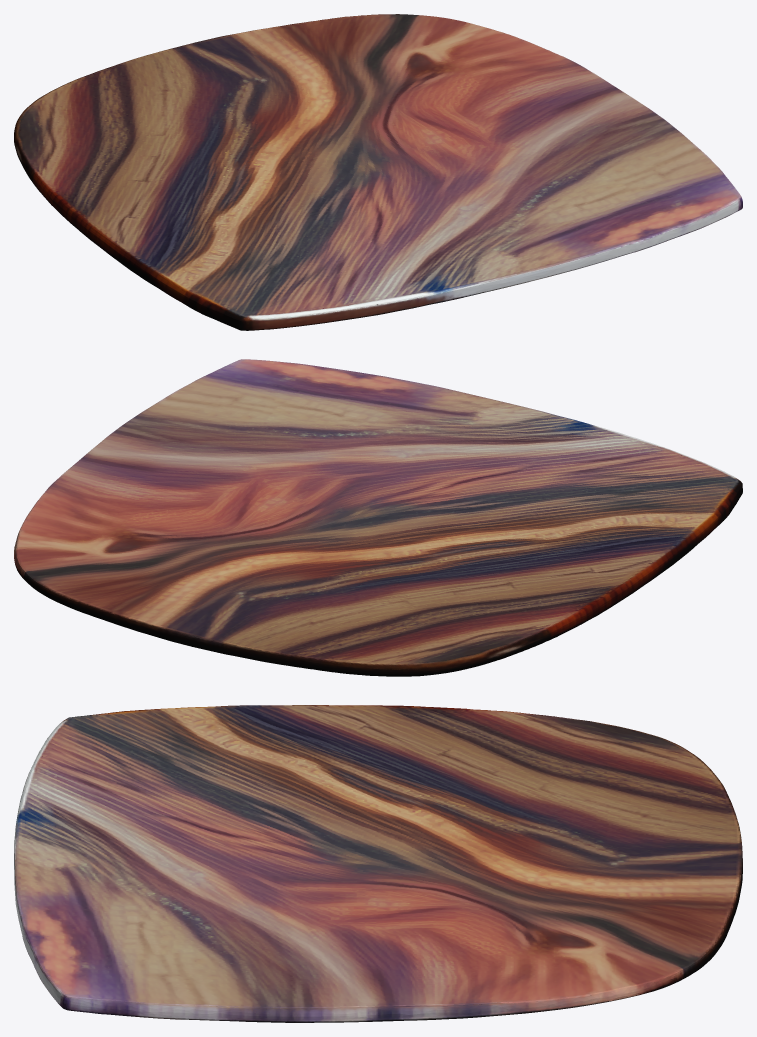
The model's file is wooden-guitar-pick-futuristic.jpeg.glb.
3 renders of one model, top to bottom at view 1: azimuth 30°, elevation 25°; view 2: azimuth 150°, elevation 25°; view 3: azimuth 270°, elevation 25°, orthographic. The views are drawn at different scales.
Parts seen in each view (by area): view 1: world; view 2: world; view 3: world.
Part boxes in pixels (<box>): world: <box>14,14,742,330</box>; world: <box>14,359,742,676</box>; world: <box>14,705,742,1022</box>.
Bounding box in the file's own units: 0.986 × 0.0245 × 0.9955.
Materials: 1 (1 with a texture image).
